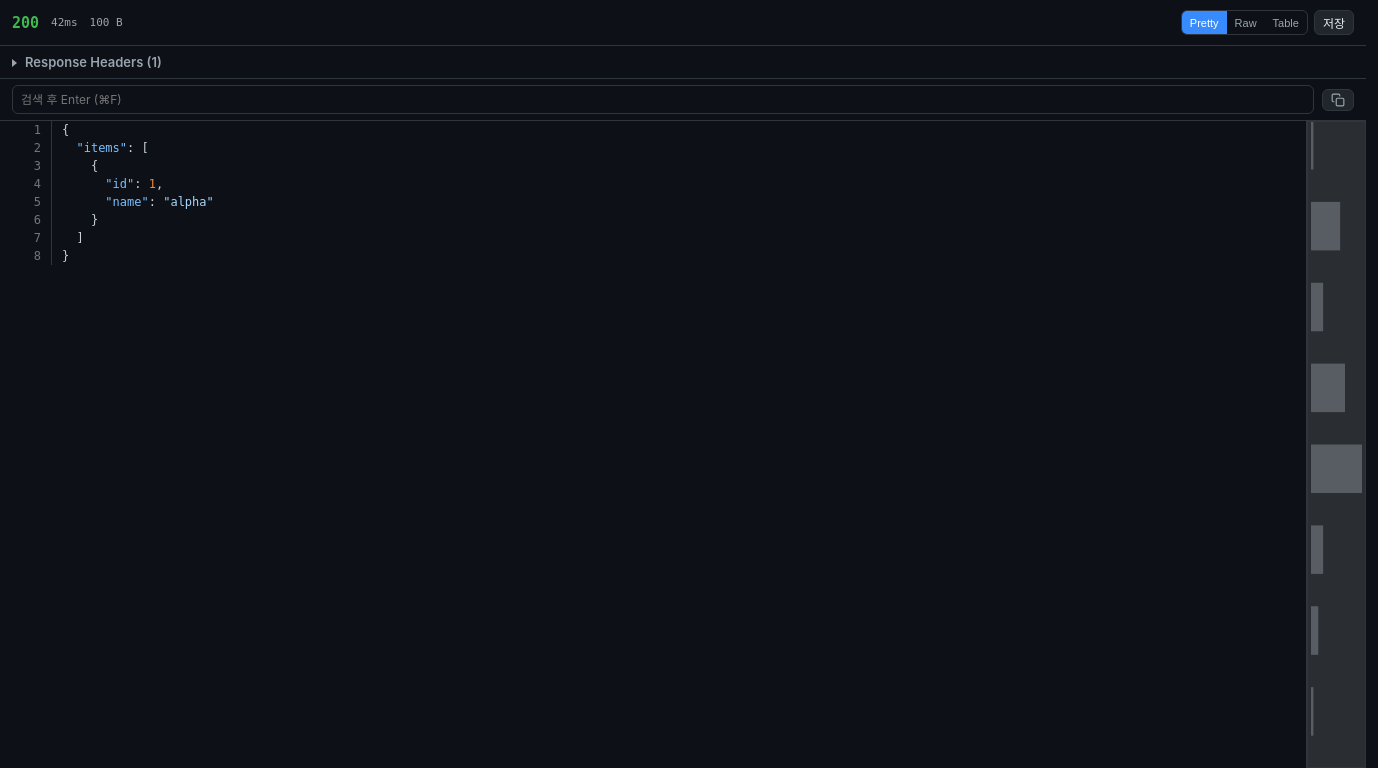
Test case: ResponseView UI 다듬기 › 검색 지우기 버튼은 동그라미 X(svg) 아이콘이다
In the field with class "search": (663, 100) [12, 85, 1314, 114], type "alpha"
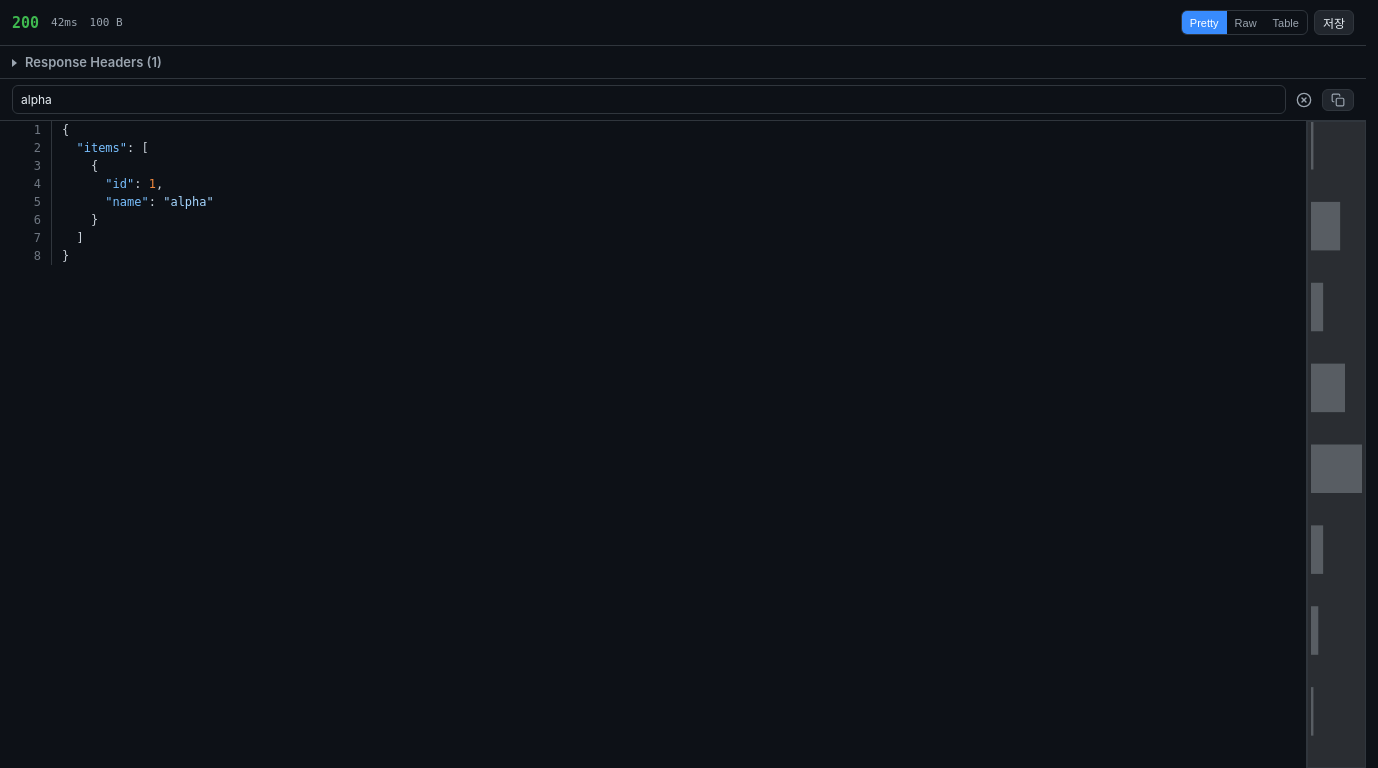
Result: the button with class "search-clear" is shown at [1294, 90, 1314, 110]
Result: the 1st icon is shown at [1296, 92, 1312, 108]
